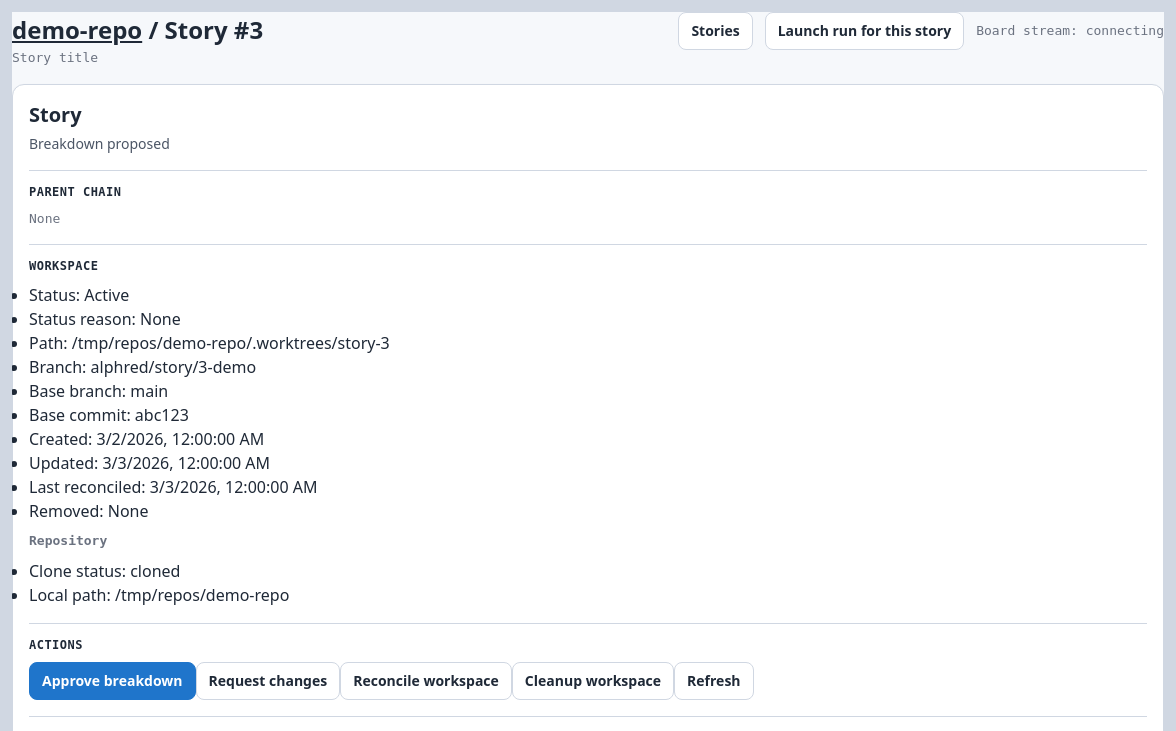
Scenario: StoryDetailPageContent › supports request-changes by moving the story back to NeedsBreakdown
Click the button "Request changes" at (268, 680), box 196,662 -> 340,700
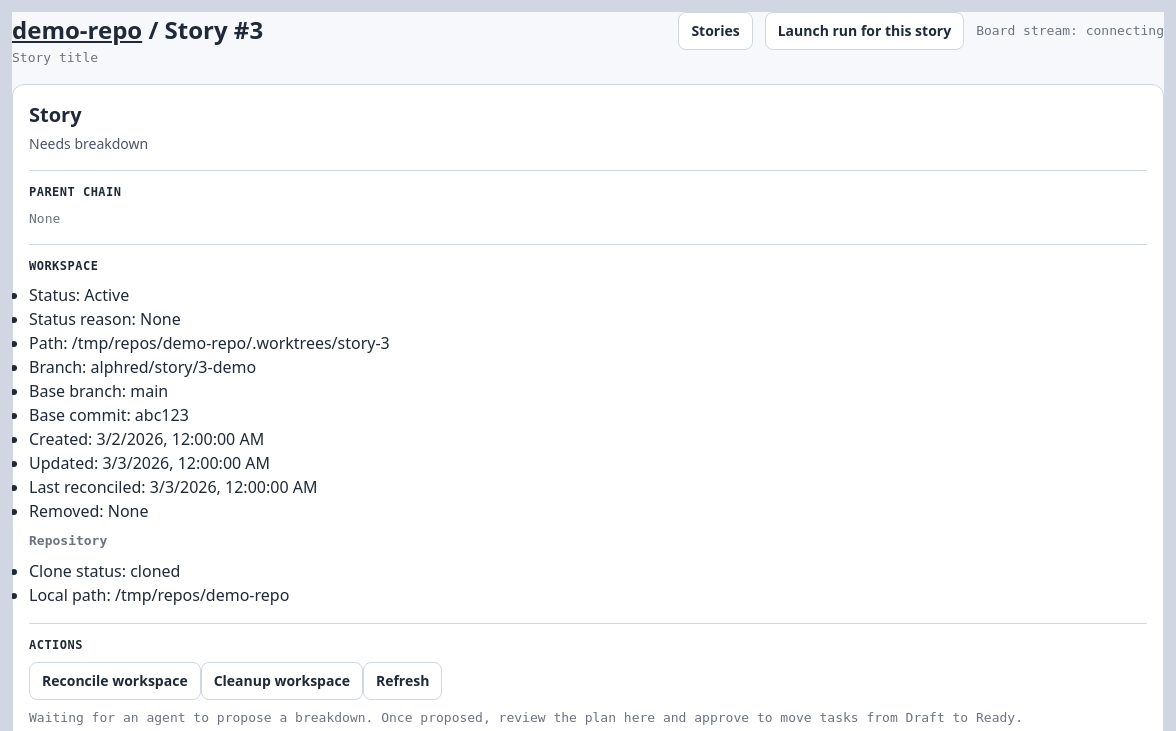
Check: the text "Needs breakdown" is shown, box 29,134 -> 148,152
